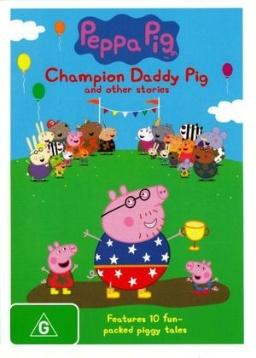Peppa: (41, 240, 80, 296)
